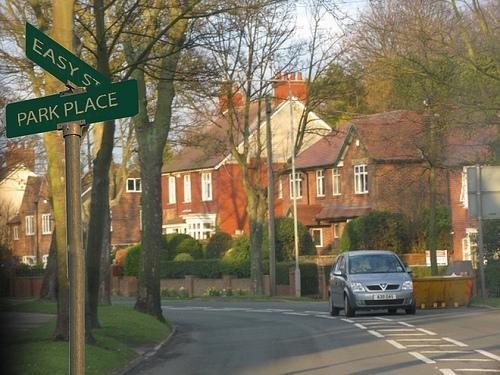car: (328, 250, 416, 317)
